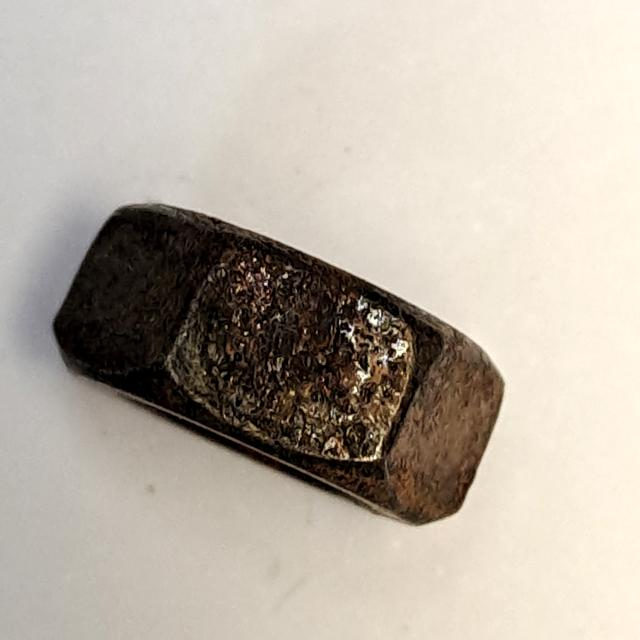Side_Rust: (30, 179, 525, 542)
